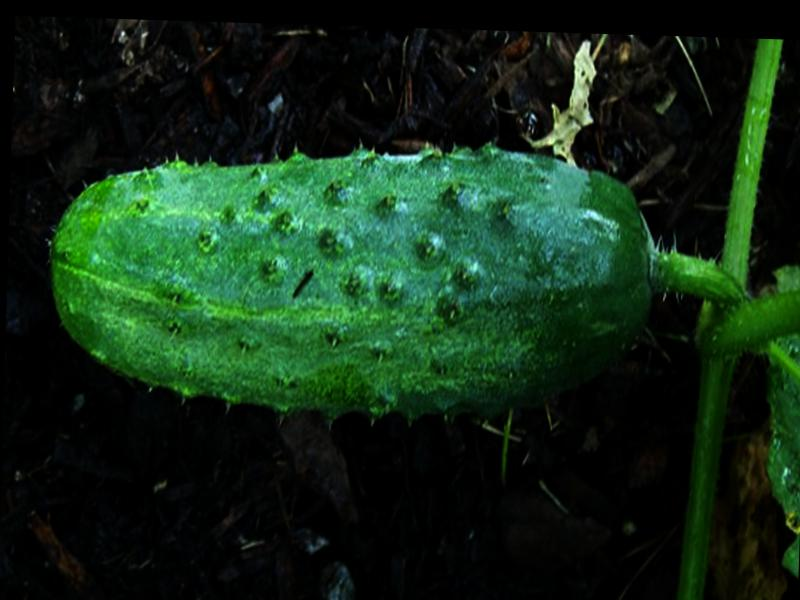Cucumber: (41, 134, 659, 429)
